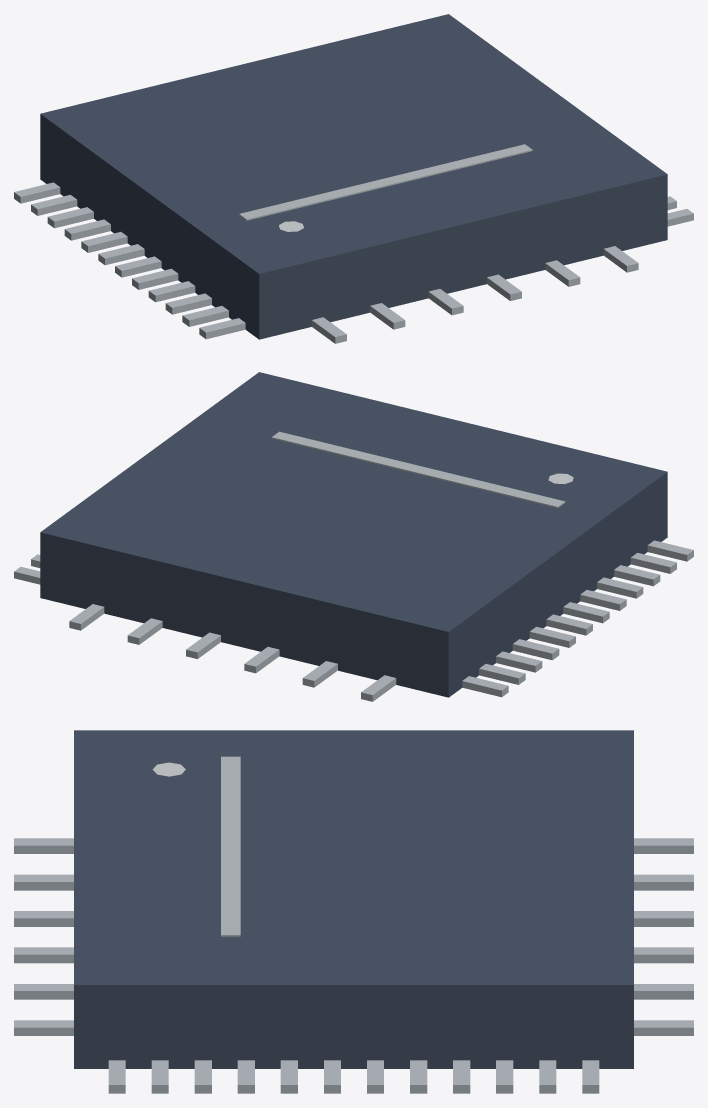
3 views of the same model, one above another, from view 1: azimuth 30°, elevation 25°; view 2: azimuth 150°, elevation 25°; view 3: azimuth 270°, elevation 25° (orthographic). The views are drawn at different scales.
Parts seen in each view (by area): view 1: part0000__PSMAT__IC_Epoxy, part0001__PSMAT__IC_Laser, part0011__PSMAT__Tin_Solder, part0003__PSMAT__Tin_Solder, part0005__PSMAT__Tin_Solder, part0006__PSMAT__Tin_Solder, part0010__PSMAT__Tin_Solder, part0012__PSMAT__Tin_Solder, part0014__PSMAT__Tin_Solder, part0004__PSMAT__Tin_Solder, part0007__PSMAT__Tin_Solder, part0008__PSMAT__Tin_Solder (+8 smaller); view 2: part0000__PSMAT__IC_Epoxy, part0001__PSMAT__IC_Laser, part0006__PSMAT__Tin_Solder, part0003__PSMAT__Tin_Solder, part0005__PSMAT__Tin_Solder, part0007__PSMAT__Tin_Solder, part0011__PSMAT__Tin_Solder, part0012__PSMAT__Tin_Solder, part0014__PSMAT__Tin_Solder, part0004__PSMAT__Tin_Solder, part0008__PSMAT__Tin_Solder, part0009__PSMAT__Tin_Solder (+8 smaller); view 3: part0000__PSMAT__IC_Epoxy, part0001__PSMAT__IC_Laser, part0028__PSMAT__Tin_Solder, part0030__PSMAT__Tin_Solder, part0034__PSMAT__Tin_Solder, part0036__PSMAT__Tin_Solder, part0027__PSMAT__Tin_Solder, part0029__PSMAT__Tin_Solder, part0031__PSMAT__Tin_Solder, part0032__PSMAT__Tin_Solder, part0033__PSMAT__Tin_Solder, part0035__PSMAT__Tin_Solder (+14 smaller).
Part boxes in pixels (left/top/right/bottom): part0000__PSMAT__IC_Epoxy: left=40, top=14, right=667, bottom=339; part0001__PSMAT__IC_Laser: left=239, top=144, right=532, bottom=220; part0011__PSMAT__Tin_Solder: left=148, top=281, right=195, bottom=302; part0003__PSMAT__Tin_Solder: left=14, top=182, right=60, bottom=203; part0005__PSMAT__Tin_Solder: left=47, top=207, right=93, bottom=228; part0006__PSMAT__Tin_Solder: left=64, top=219, right=110, bottom=240; part0010__PSMAT__Tin_Solder: left=132, top=268, right=178, bottom=289; part0012__PSMAT__Tin_Solder: left=165, top=293, right=211, bottom=314; part0014__PSMAT__Tin_Solder: left=199, top=318, right=245, bottom=339; part0004__PSMAT__Tin_Solder: left=31, top=194, right=77, bottom=215; part0007__PSMAT__Tin_Solder: left=81, top=232, right=127, bottom=252; part0008__PSMAT__Tin_Solder: left=98, top=244, right=144, bottom=265; part0000__PSMAT__IC_Epoxy: left=40, top=372, right=667, bottom=697; part0001__PSMAT__IC_Laser: left=271, top=431, right=565, bottom=508; part0006__PSMAT__Tin_Solder: left=512, top=639, right=559, bottom=660; part0003__PSMAT__Tin_Solder: left=462, top=676, right=508, bottom=697; part0005__PSMAT__Tin_Solder: left=496, top=651, right=542, bottom=672; part0007__PSMAT__Tin_Solder: left=529, top=626, right=575, bottom=647; part0011__PSMAT__Tin_Solder: left=597, top=577, right=643, bottom=598; part0012__PSMAT__Tin_Solder: left=614, top=565, right=660, bottom=586; part0014__PSMAT__Tin_Solder: left=647, top=540, right=693, bottom=561; part0004__PSMAT__Tin_Solder: left=479, top=664, right=525, bottom=684; part0008__PSMAT__Tin_Solder: left=546, top=614, right=592, bottom=635; part0009__PSMAT__Tin_Solder: left=563, top=602, right=609, bottom=623; part0000__PSMAT__IC_Epoxy: left=74, top=730, right=633, bottom=1068; part0001__PSMAT__IC_Laser: left=221, top=756, right=240, bottom=936; part0028__PSMAT__Tin_Solder: left=634, top=874, right=693, bottom=890; part0030__PSMAT__Tin_Solder: left=634, top=947, right=693, bottom=963; part0034__PSMAT__Tin_Solder: left=14, top=874, right=73, bottom=890; part0036__PSMAT__Tin_Solder: left=14, top=947, right=73, bottom=963; part0027__PSMAT__Tin_Solder: left=634, top=838, right=693, bottom=853; part0029__PSMAT__Tin_Solder: left=634, top=911, right=693, bottom=926; part0031__PSMAT__Tin_Solder: left=634, top=984, right=693, bottom=999; part0032__PSMAT__Tin_Solder: left=634, top=1020, right=693, bottom=1035; part0033__PSMAT__Tin_Solder: left=14, top=838, right=73, bottom=853; part0035__PSMAT__Tin_Solder: left=14, top=911, right=73, bottom=926.
Bounding box in the file's own units: 0.0167 × 0.00225 × 0.0158.
